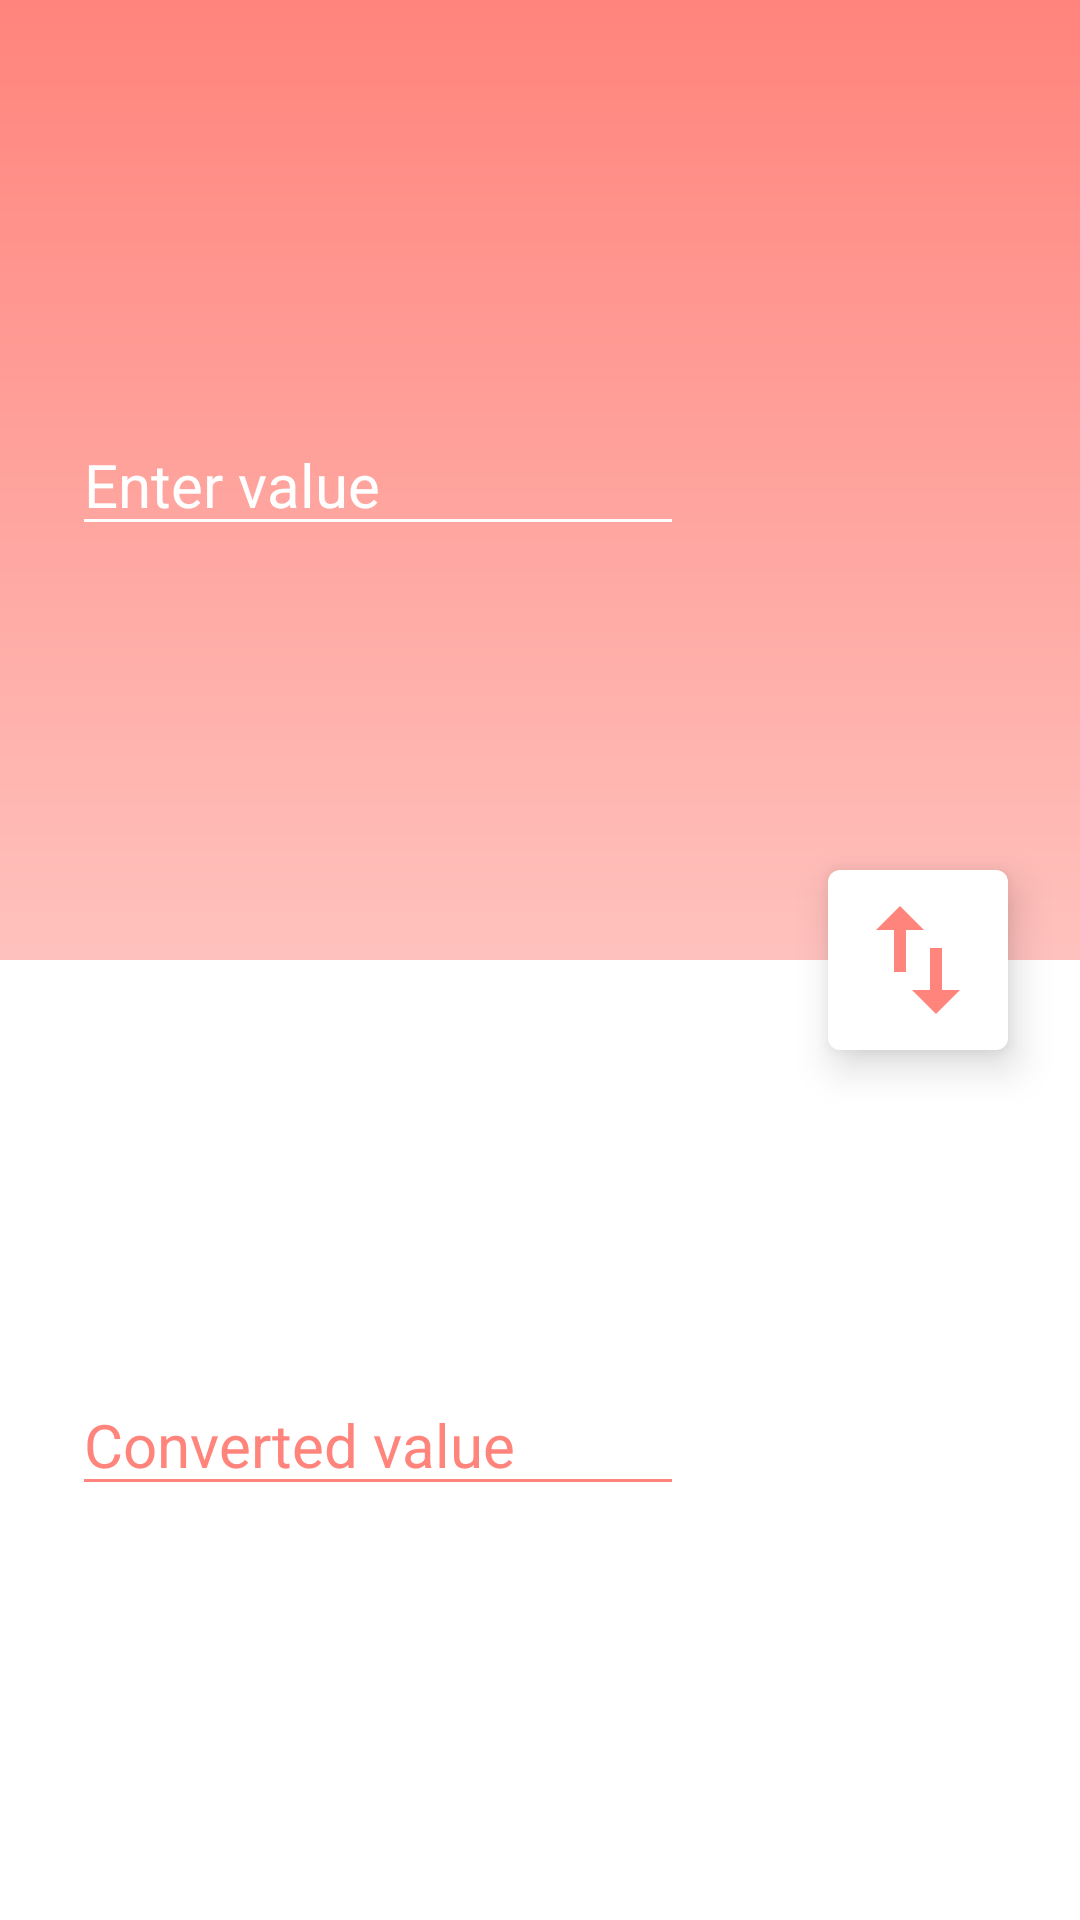

Point at icon controls on the screen. Image size 1080px x 1920px, points as [x,y].
convert: [918,960]
